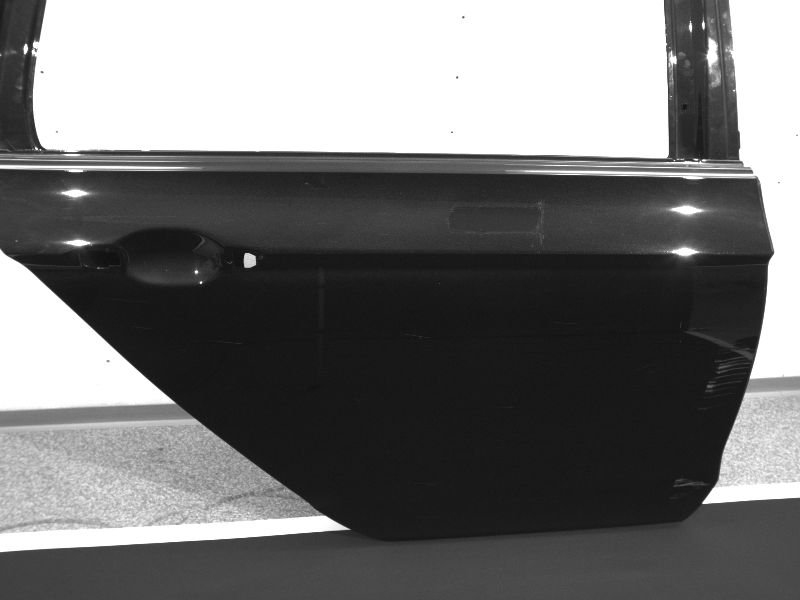scratch: (698, 342, 754, 411), (669, 477, 710, 501), (106, 296, 150, 305), (207, 338, 243, 345), (406, 480, 435, 487), (403, 333, 431, 340), (129, 325, 156, 331), (490, 405, 516, 411), (552, 321, 581, 325), (678, 322, 684, 329)
